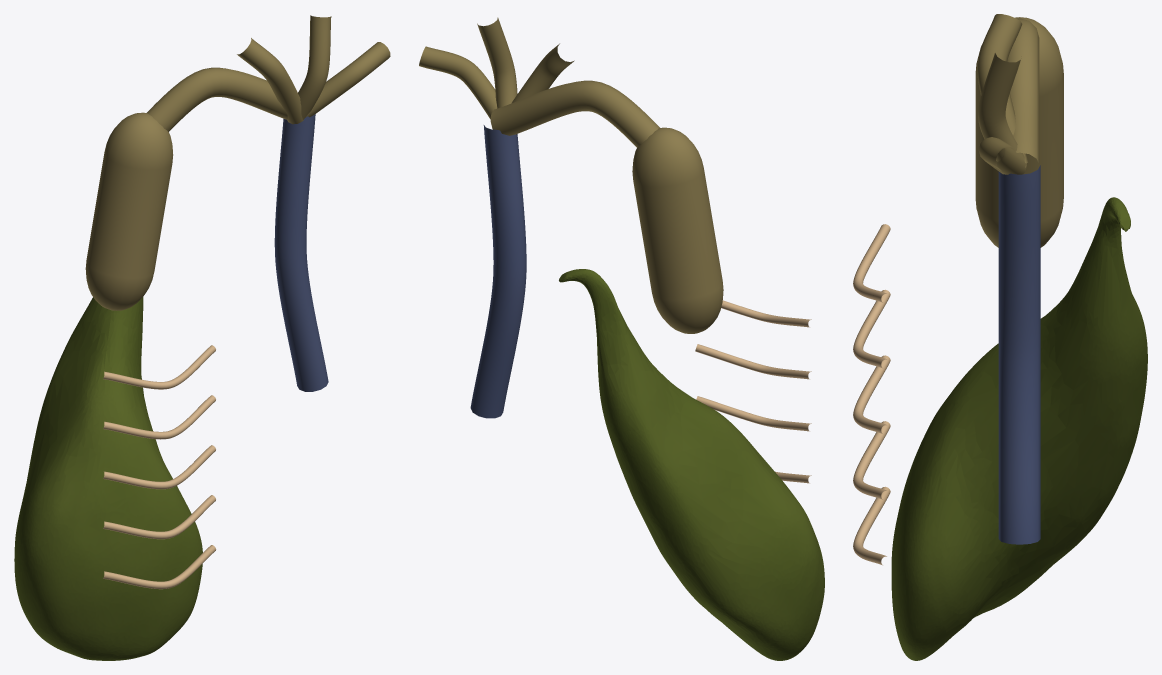
Rendered from gallbladder.785d64ad.glb.
3 views of the same model, side by side, from view 1: azimuth 30°, elevation 25°; view 2: azimuth 150°, elevation 25°; view 3: azimuth 270°, elevation 25° (orthographic). The views are drawn at different scales.
Visible parts, largest first — view 1: Gallbladder sac, procedural-gallbladder-surface-1, procedural-gallbladder-surface-3, procedural-gallbladder-surface-2, procedural-gallbladder-surface-5, procedural-gallbladder-surface-4, procedural-gallbladder-surface-6, procedural-gallbladder-surface-9, procedural-gallbladder-surface-7, procedural-gallbladder-surface-10, procedural-gallbladder-surface-8, procedural-gallbladder-surface-11; view 2: Gallbladder sac, procedural-gallbladder-surface-1, procedural-gallbladder-surface-3, procedural-gallbladder-surface-2, procedural-gallbladder-surface-6, procedural-gallbladder-surface-5, procedural-gallbladder-surface-4, procedural-gallbladder-surface-8, procedural-gallbladder-surface-9, procedural-gallbladder-surface-7; view 3: Gallbladder sac, procedural-gallbladder-surface-3, procedural-gallbladder-surface-1, procedural-gallbladder-surface-2, procedural-gallbladder-surface-5, procedural-gallbladder-surface-4, procedural-gallbladder-surface-6, procedural-gallbladder-surface-7, procedural-gallbladder-surface-9, procedural-gallbladder-surface-11, procedural-gallbladder-surface-8, procedural-gallbladder-surface-10.
Part boxes in pixels (bbox=[...]): Gallbladder sac: bbox=[14, 297, 202, 660]; procedural-gallbladder-surface-1: bbox=[85, 112, 173, 310]; procedural-gallbladder-surface-3: bbox=[274, 114, 328, 391]; procedural-gallbladder-surface-2: bbox=[147, 67, 287, 131]; procedural-gallbladder-surface-5: bbox=[298, 15, 331, 119]; procedural-gallbladder-surface-4: bbox=[237, 38, 303, 124]; procedural-gallbladder-surface-6: bbox=[306, 42, 390, 117]; procedural-gallbladder-surface-9: bbox=[103, 445, 215, 489]; procedural-gallbladder-surface-7: bbox=[103, 345, 215, 389]; procedural-gallbladder-surface-10: bbox=[103, 495, 215, 539]; procedural-gallbladder-surface-8: bbox=[103, 395, 215, 439]; procedural-gallbladder-surface-11: bbox=[103, 545, 216, 589]; Gallbladder sac: bbox=[559, 269, 824, 660]; procedural-gallbladder-surface-1: bbox=[632, 127, 723, 333]; procedural-gallbladder-surface-3: bbox=[470, 125, 526, 418]; procedural-gallbladder-surface-2: bbox=[490, 80, 659, 147]; procedural-gallbladder-surface-6: bbox=[419, 46, 497, 119]; procedural-gallbladder-surface-5: bbox=[477, 17, 517, 108]; procedural-gallbladder-surface-4: bbox=[512, 43, 574, 134]; procedural-gallbladder-surface-8: bbox=[695, 344, 811, 379]; procedural-gallbladder-surface-9: bbox=[696, 396, 811, 431]; procedural-gallbladder-surface-7: bbox=[721, 300, 811, 327]; Gallbladder sac: bbox=[891, 197, 1147, 660]; procedural-gallbladder-surface-3: bbox=[998, 165, 1040, 544]; procedural-gallbladder-surface-1: bbox=[975, 17, 1063, 247]; procedural-gallbladder-surface-2: bbox=[1007, 18, 1039, 164]; procedural-gallbladder-surface-5: bbox=[978, 53, 1026, 167]; procedural-gallbladder-surface-4: bbox=[977, 14, 1027, 162]; procedural-gallbladder-surface-6: bbox=[978, 137, 1026, 174]; procedural-gallbladder-surface-7: bbox=[853, 224, 890, 302]; procedural-gallbladder-surface-9: bbox=[853, 355, 890, 433]; procedural-gallbladder-surface-11: bbox=[853, 486, 890, 565]; procedural-gallbladder-surface-8: bbox=[853, 289, 890, 368]; procedural-gallbladder-surface-10: bbox=[853, 421, 890, 499].
Bounding box in the file's own units: 2.02 × 2.95 × 1.06.
